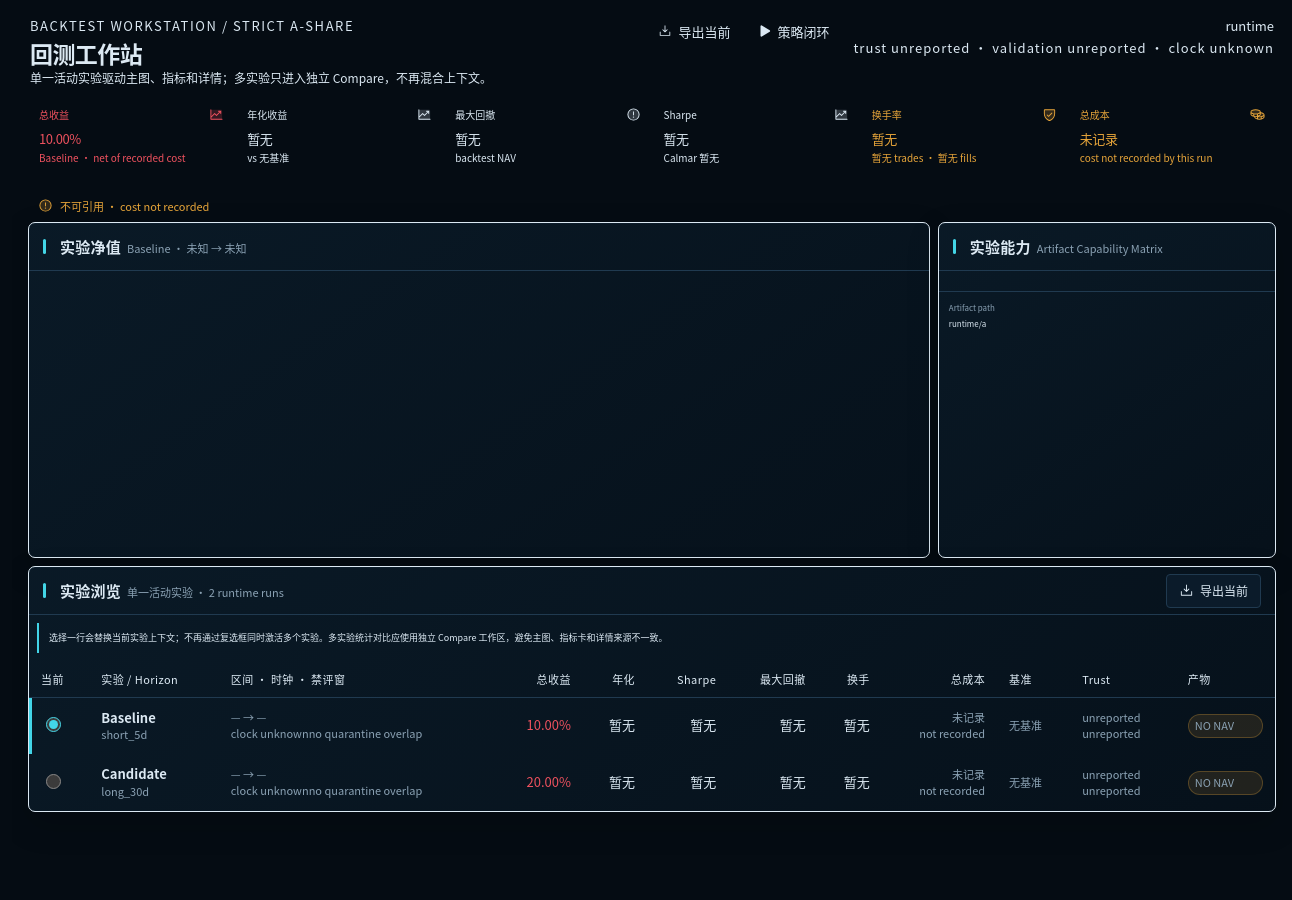
Test: keeps exactly one active backtest while changing the URL context
Expected: the radio button named "选择实验 Baseline" is checked, [46, 718, 61, 732]
Step 1. Click the radio button named "选择实验 Candidate" → (54, 782), box [46, 774, 61, 789]
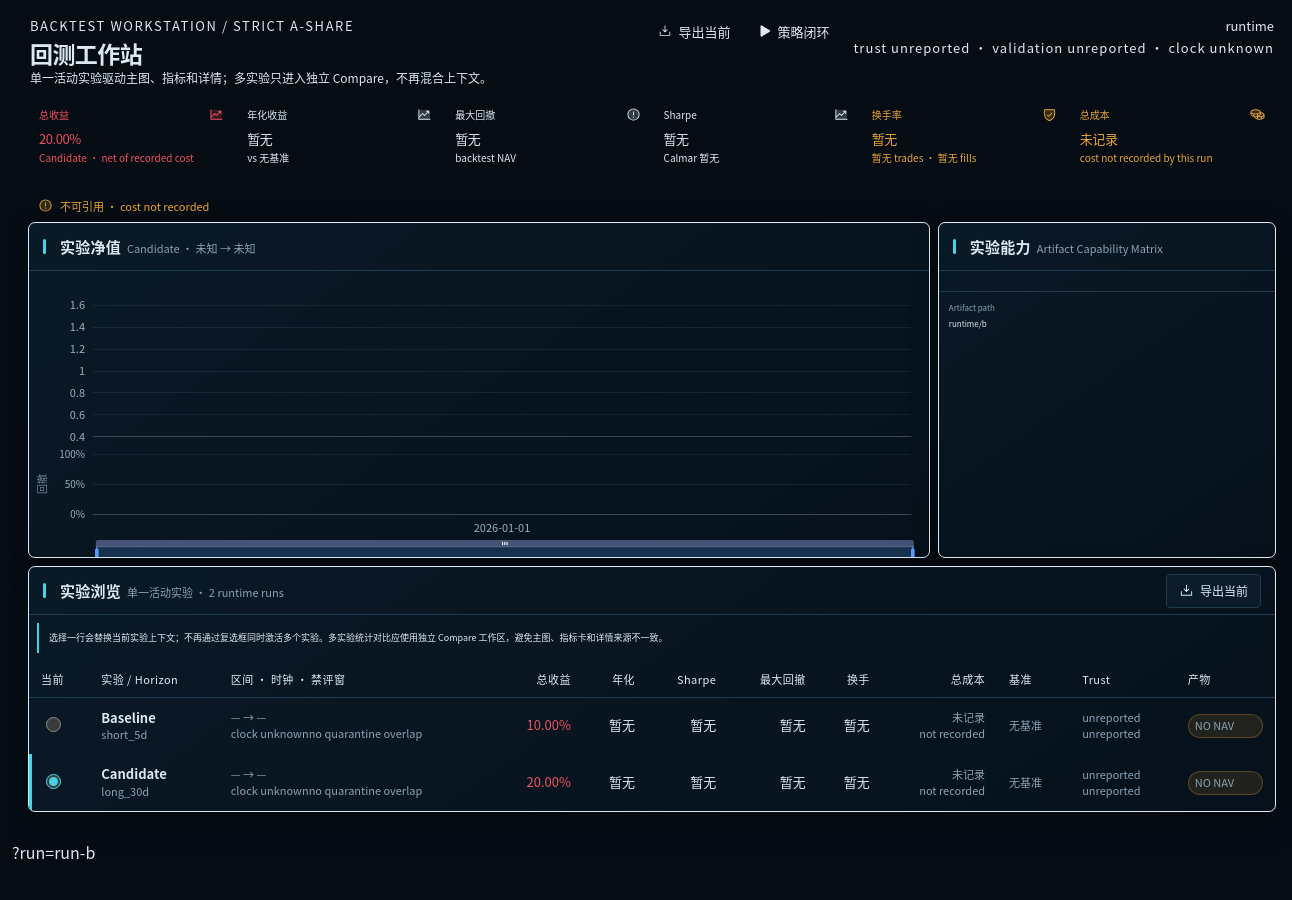
Expected: the radio button named "选择实验 Candidate" is checked, [46, 774, 61, 789]
Expected: the radio button named "选择实验 Baseline" is not checked, [46, 718, 61, 732]
Expected: the text with test id "location" shows "run=run-b", [12, 840, 95, 864]
